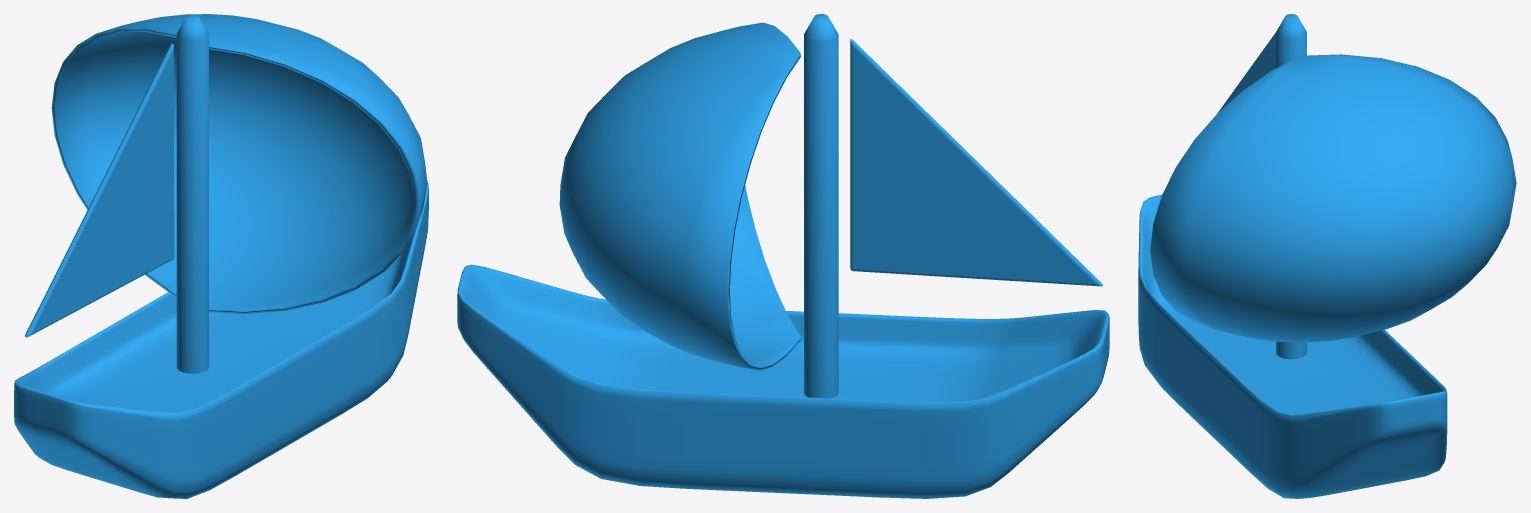
The model's file is GEN_boat.glb.
The picture shows the model from 3 angles, left to right: view 1: azimuth 30°, elevation 25°; view 2: azimuth 150°, elevation 25°; view 3: azimuth 270°, elevation 25°; orthographic projection. The views are drawn at different scales.
Parts seen in each view (by area): view 1: BOAT; view 2: BOAT; view 3: BOAT.
Part boxes in pixels (box(x1,y1,x2,y2)): BOAT: box(14, 14, 428, 498); BOAT: box(457, 14, 1109, 498); BOAT: box(1138, 14, 1516, 498).
Bounding box in the file's own units: 1.26 × 1.01 × 0.8609.
